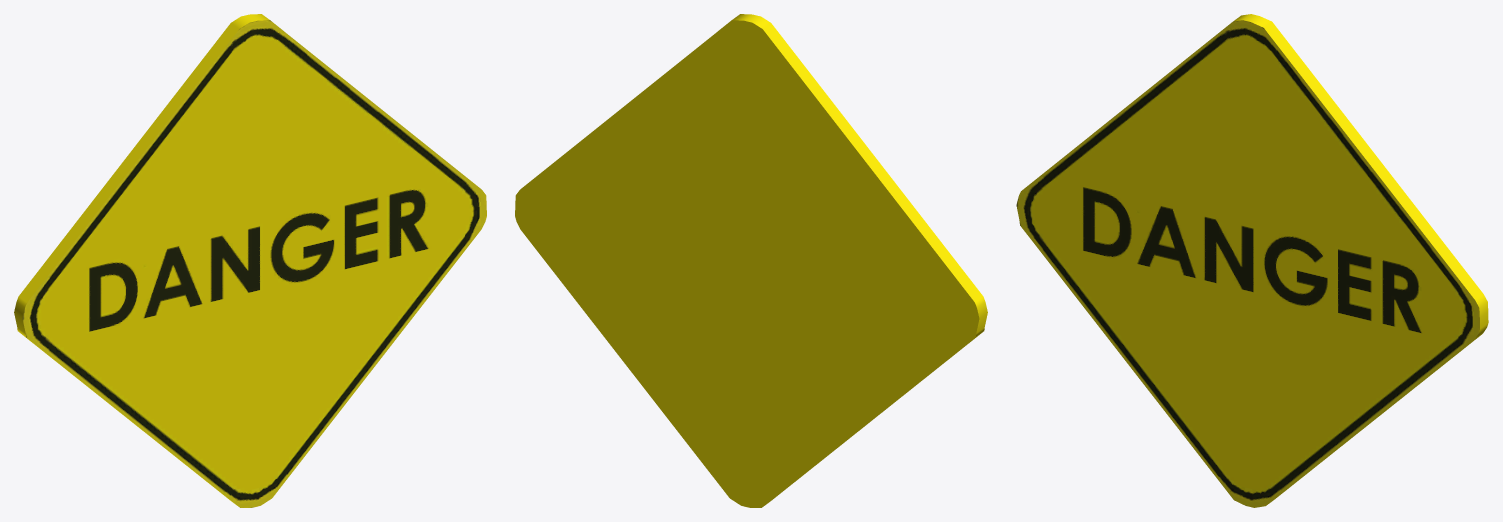
Rendered from SM_Prop_DeadEndSign_01.obj.
3 views of the same model, side by side, from view 1: azimuth 30°, elevation 25°; view 2: azimuth 150°, elevation 25°; view 3: azimuth 330°, elevation 25° (orthographic).
Parts seen in each view (by area): view 1: SM_Prop_DeadEndSign_01_MI_DeadEndSign_01_A; view 2: SM_Prop_DeadEndSign_01_MI_DeadEndSign_01_A; view 3: SM_Prop_DeadEndSign_01_MI_DeadEndSign_01_A.
Part boxes in pixels (x1=…): SM_Prop_DeadEndSign_01_MI_DeadEndSign_01_A: x1=14, y1=14, x2=486, y2=507; SM_Prop_DeadEndSign_01_MI_DeadEndSign_01_A: x1=515, y1=14, x2=987, y2=507; SM_Prop_DeadEndSign_01_MI_DeadEndSign_01_A: x1=1016, y1=14, x2=1488, y2=507.
Bounding box in the file's own units: 0.948 × 0.9476 × 0.03.
1 material, 1 textured.
